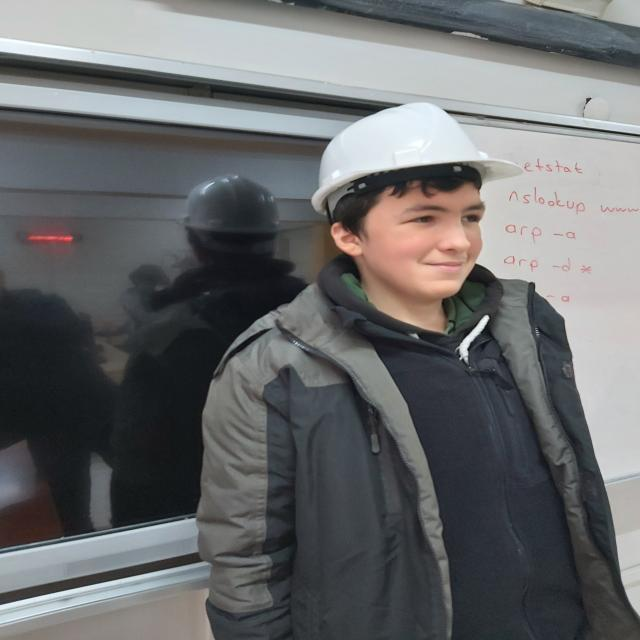helmet: (311, 104, 521, 213)
